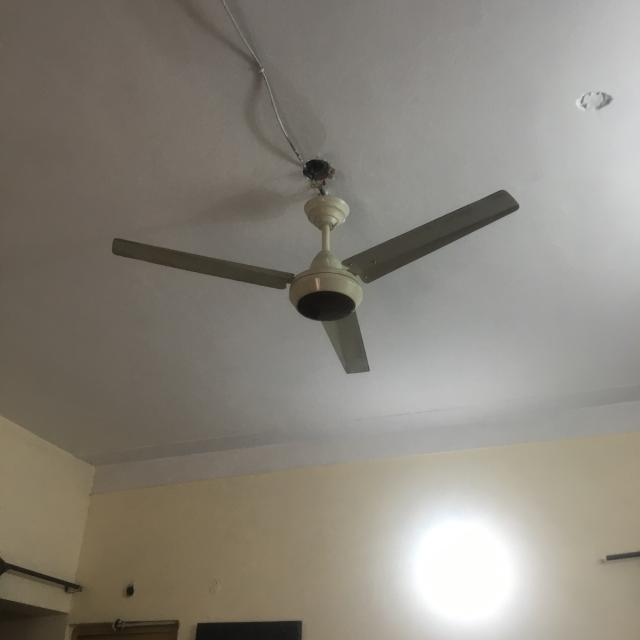off: (108, 182, 535, 377)
